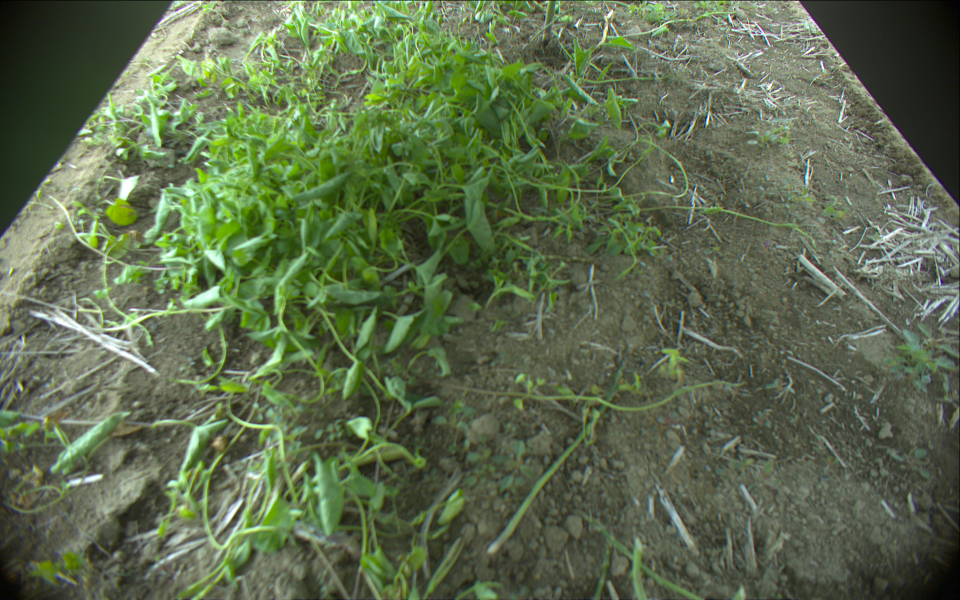aspa: (489, 359, 628, 556), (540, 1, 559, 43)
